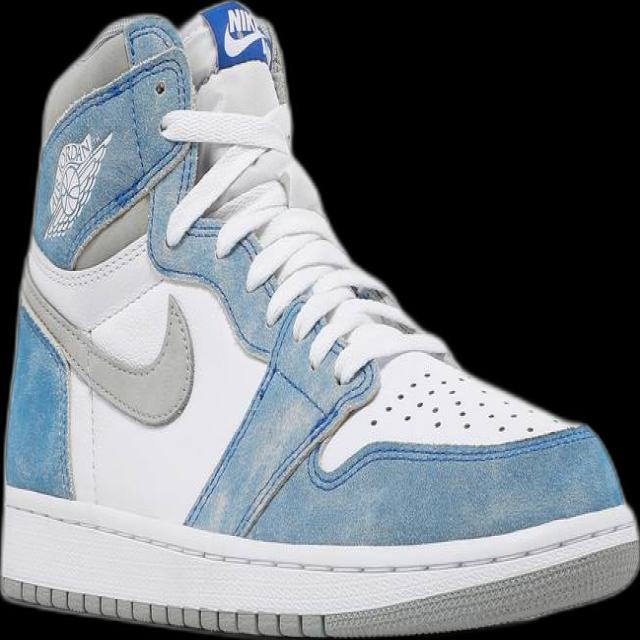J1_InsoleChar: (0, 0, 638, 639)
J1_ShoeLogo: (42, 128, 115, 239), (220, 5, 272, 65)
J1_StitchPattern: (157, 91, 581, 474), (160, 4, 438, 386), (1, 494, 638, 637), (311, 350, 581, 482), (18, 273, 197, 427), (1, 576, 330, 638), (306, 281, 419, 384), (381, 366, 529, 436)
